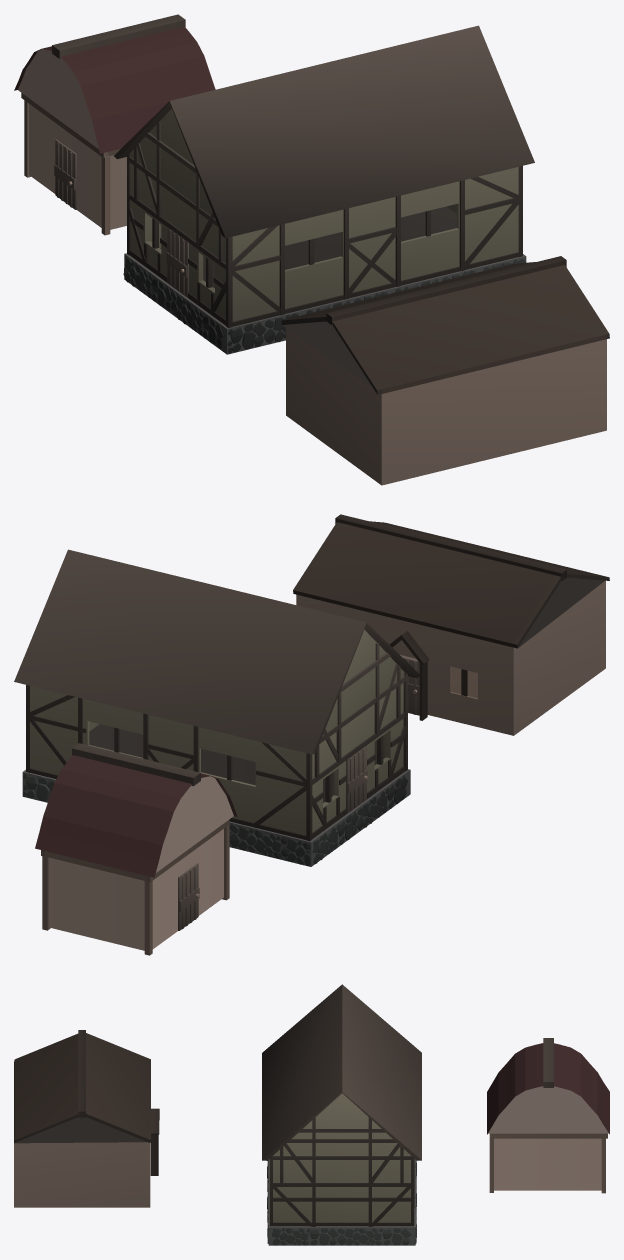
The model's file is Village_Houses_123.fbx.
3 views of the same model, one above another, from view 1: azimuth 30°, elevation 25°; view 2: azimuth 150°, elevation 25°; view 3: azimuth 270°, elevation 25° (orthographic). The views are drawn at different scales.
Visible parts, largest first — view 1: House 1, House 3, House 2, Door 2, Door 1; view 2: House 1, House 3, House 2, Door 2, Door 1, Door 3; view 3: House 1, House 3, House 2.
Part boxes in pixels (<box>): House 1: <box>114,25,534,354</box>; House 3: <box>281,256,609,485</box>; House 2: <box>14,14,215,235</box>; Door 2: <box>54,139,76,209</box>; Door 1: <box>166,227,188,297</box>; House 1: <box>14,549,420,866</box>; House 3: <box>293,514,609,735</box>; House 2: <box>35,743,237,955</box>; Door 2: <box>178,863,199,930</box>; Door 1: <box>346,745,367,812</box>; Door 3: <box>400,655,419,715</box>; House 1: <box>262,984,421,1245</box>; House 3: <box>14,1030,159,1207</box>; House 2: <box>487,1038,609,1193</box>.
Size of the model in its own units: 1226 by 775 by 2672.
1 material, 1 textured.
